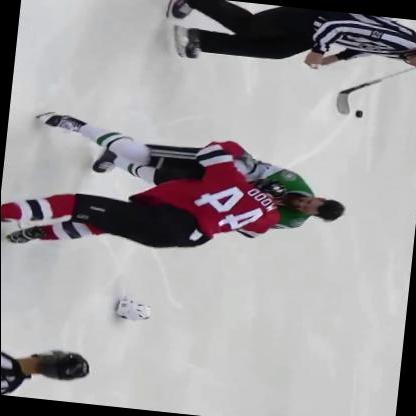non-Voilence: (152, 1, 416, 87)
voilence: (1, 108, 349, 267)
